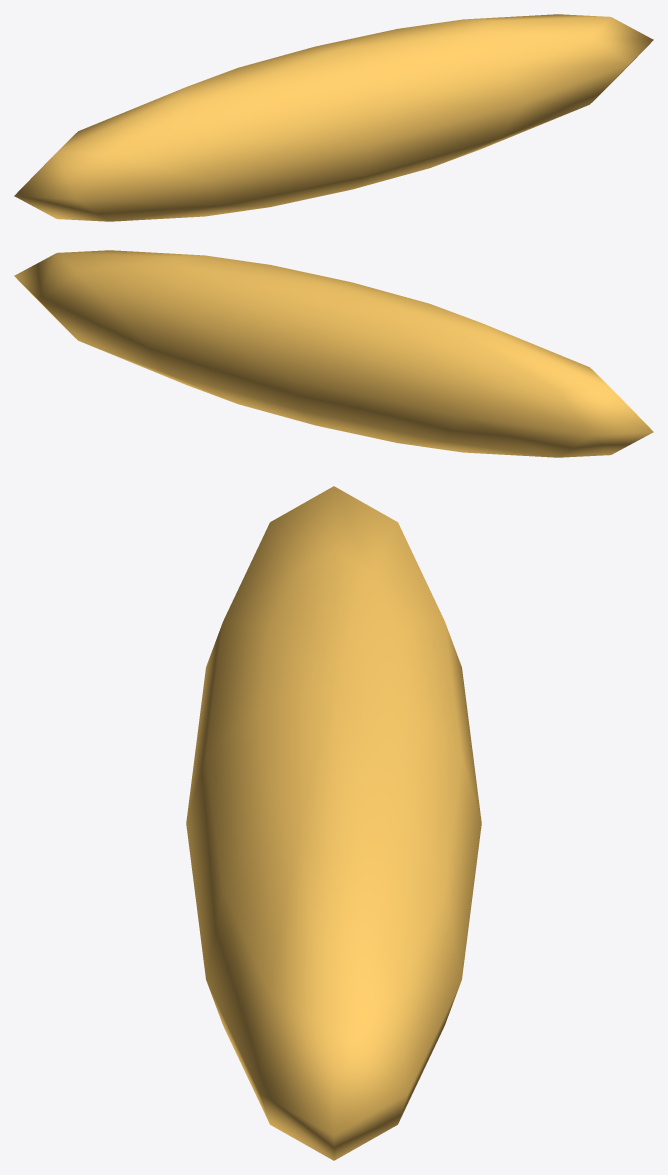
File: LaserPistol3.fbx
The picture shows the model from 3 angles, top to bottom: view 1: azimuth 30°, elevation 25°; view 2: azimuth 150°, elevation 25°; view 3: azimuth 270°, elevation 25°; orthographic projection. The views are drawn at different scales.
Visible parts, largest first — view 1: laser_orange; view 2: laser_orange; view 3: laser_orange.
Boxes of the visible parts, x1,y1,x2,y2 form: laser_orange: (14, 14, 653, 221); laser_orange: (14, 250, 653, 457); laser_orange: (186, 486, 481, 1160).
Size of the model in its own units: 0.65 by 0.13 by 0.13.
